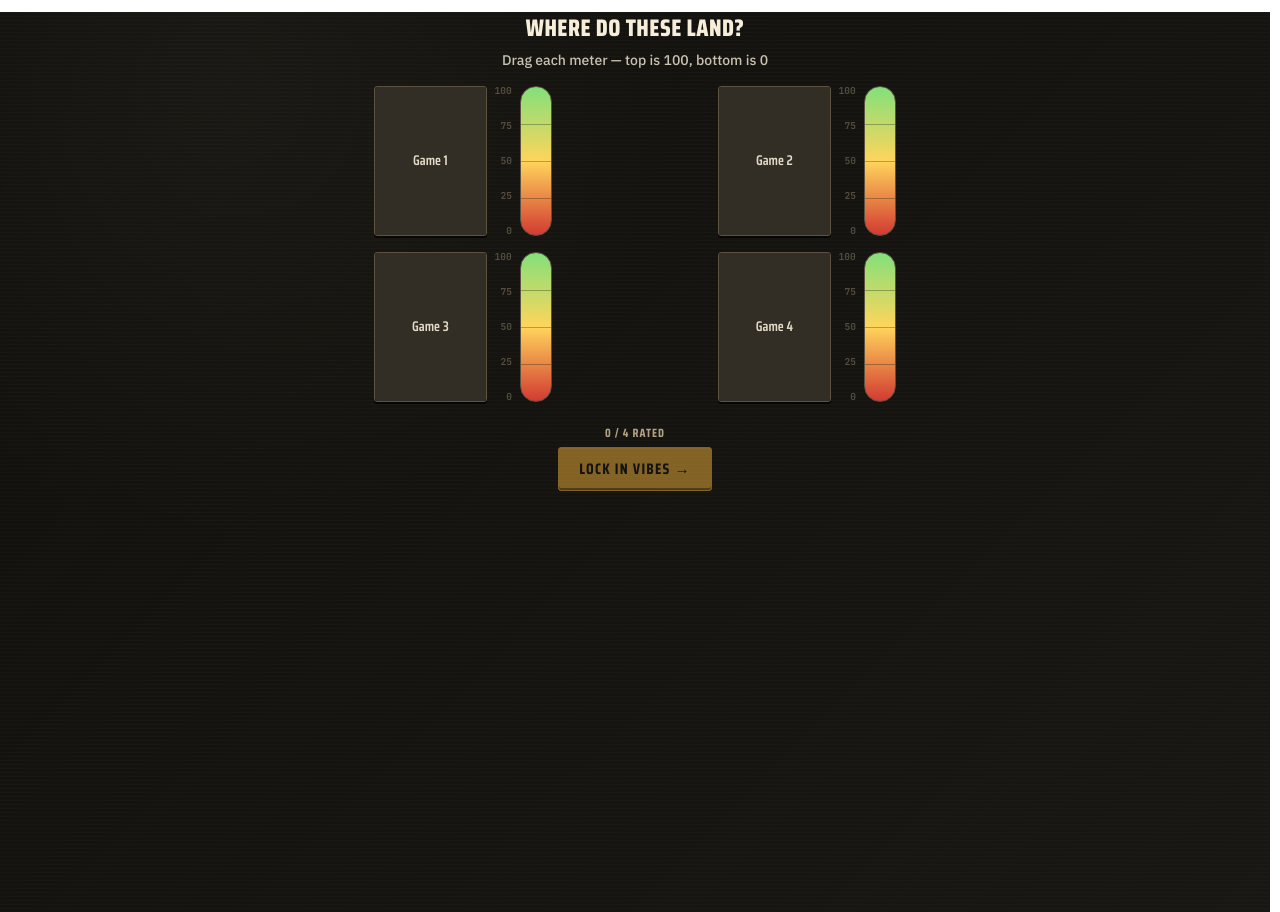
Test case: VibeMeter › disables lock-in until every game is rated
Expected: the button "Lock in vibes →" is disabled, [558,447,712,491]
Press the mouse on the slider named "rate game 1" at (536, 161), box [520,86,552,236]
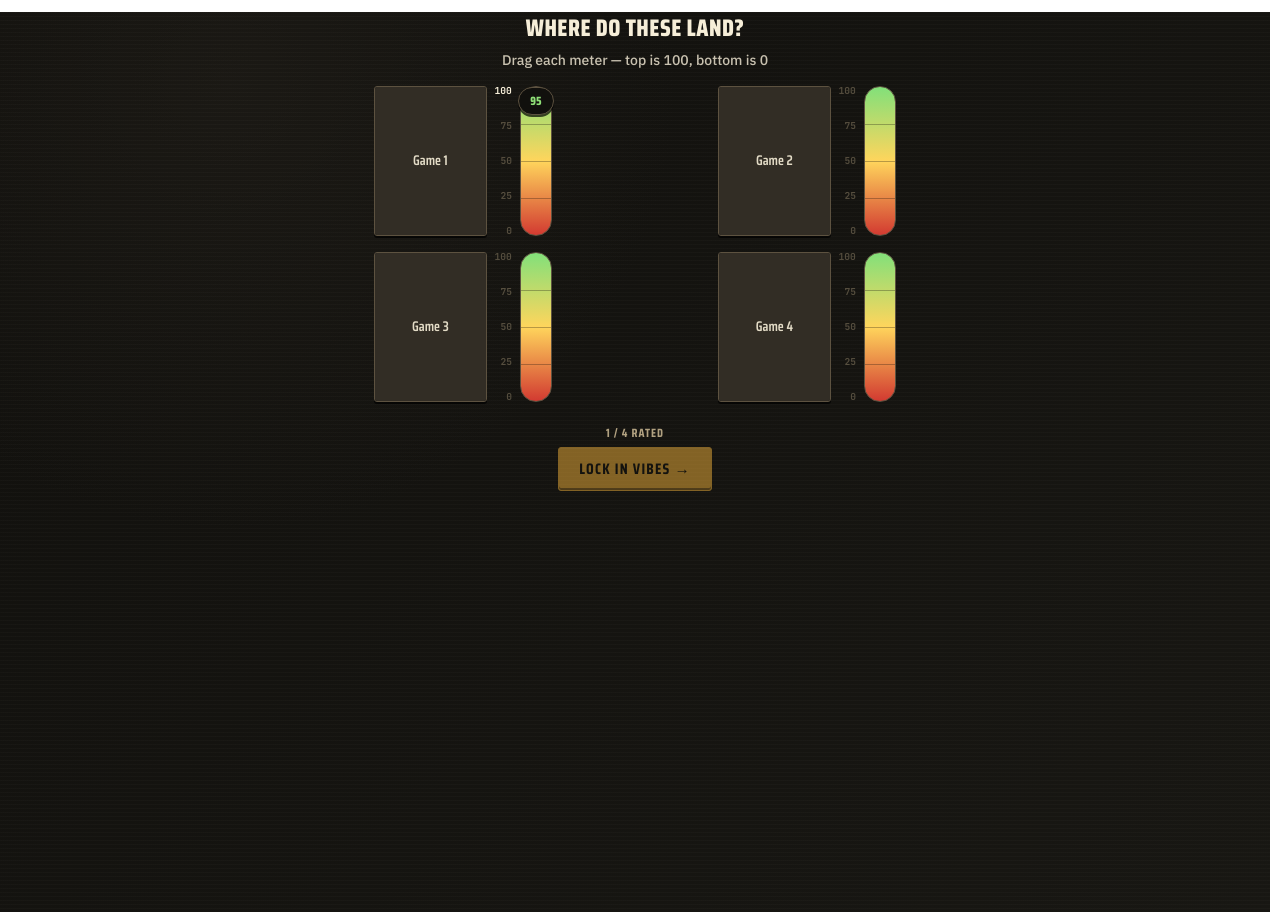
Expected: the button "Lock in vibes →" is disabled, [558,447,712,491]
Press the mouse on the slider named "rate game 2" at (880, 161), box [864,86,896,236]
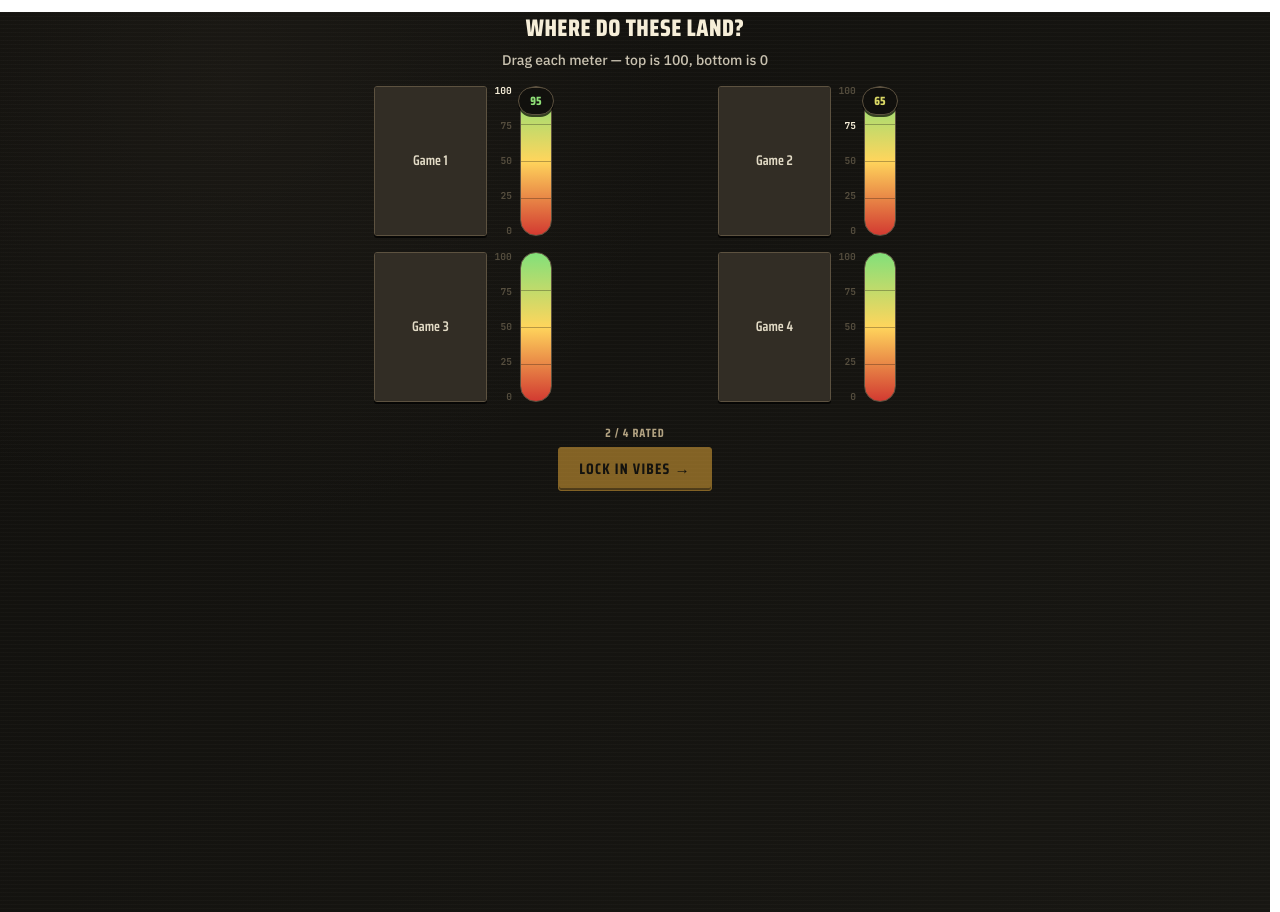
Press the mouse on the slider named "rate game 3" at (536, 327), box [520,252,552,402]
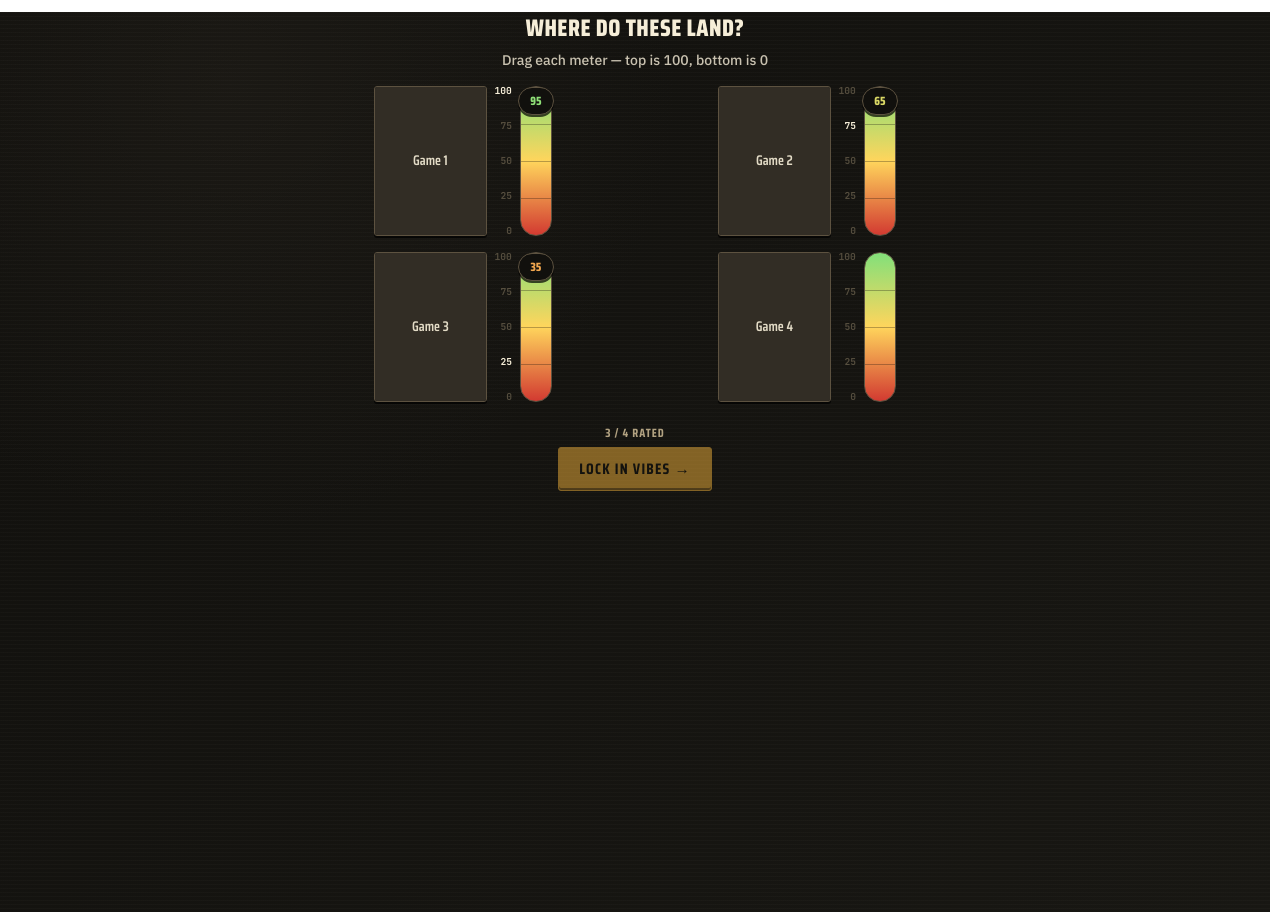
Press the mouse on the slider named "rate game 4" at (880, 327), box [864,252,896,402]
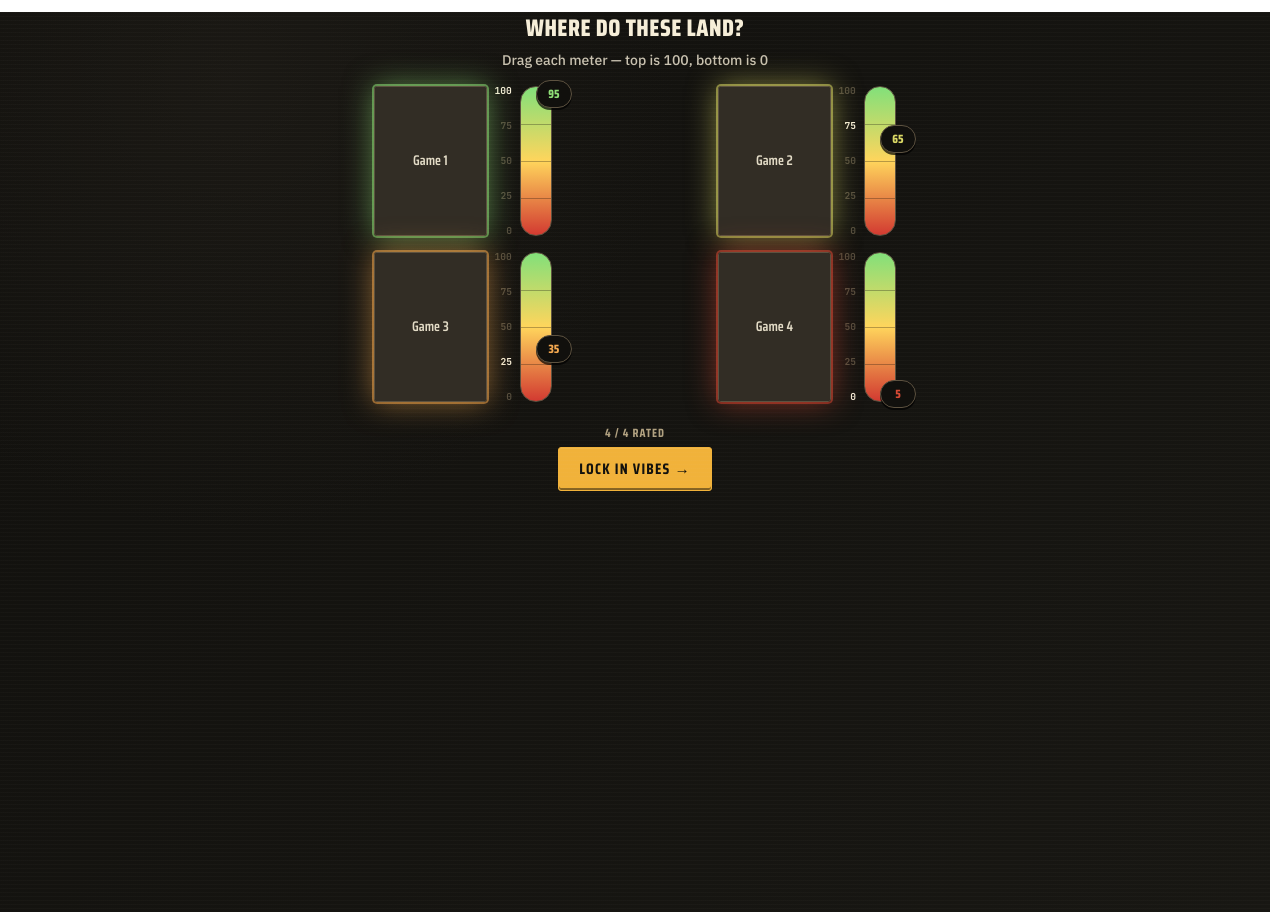
Now the button "Lock in vibes →" is enabled, box [558,447,712,491]
